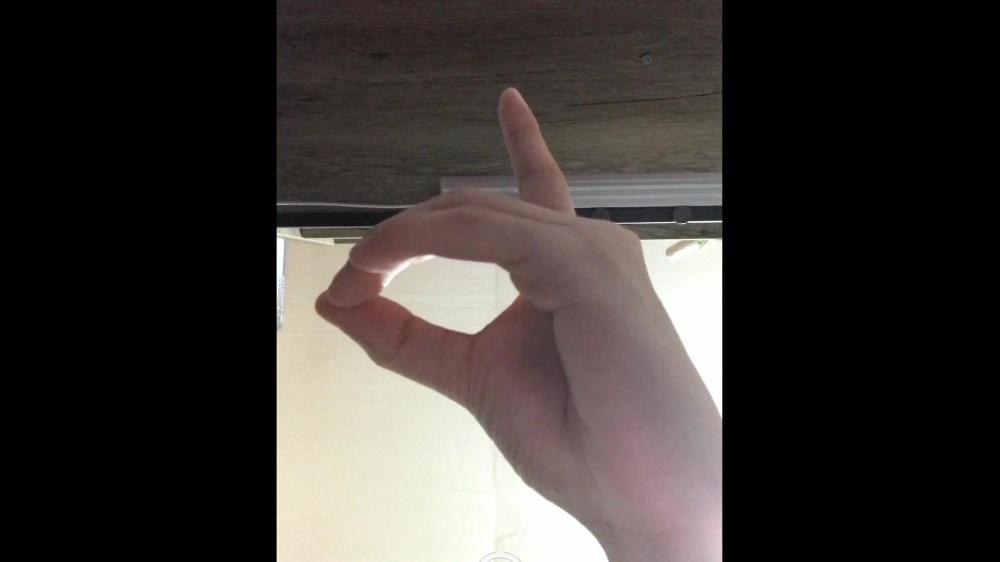d: (316, 81, 648, 507)
